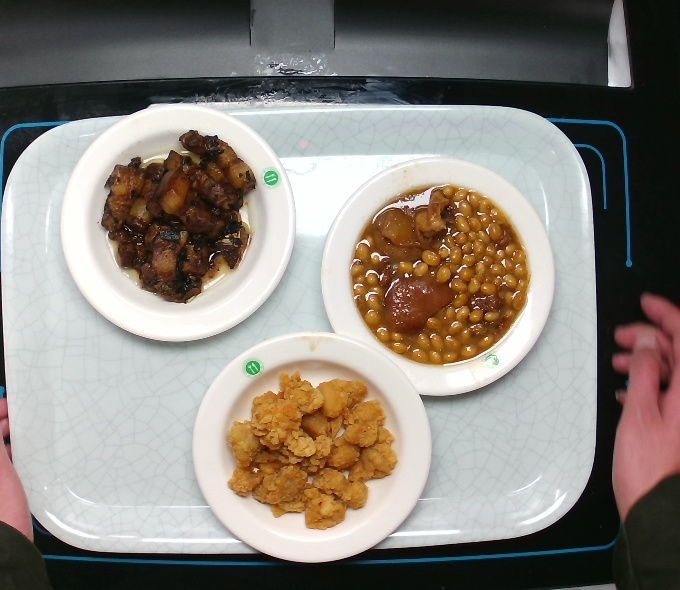wcq-GanCaiRou: (98, 127, 263, 306)
wcq-HuangDouZhuJiao: (344, 180, 534, 370)
wcq-JiMiHua: (221, 366, 401, 536)
